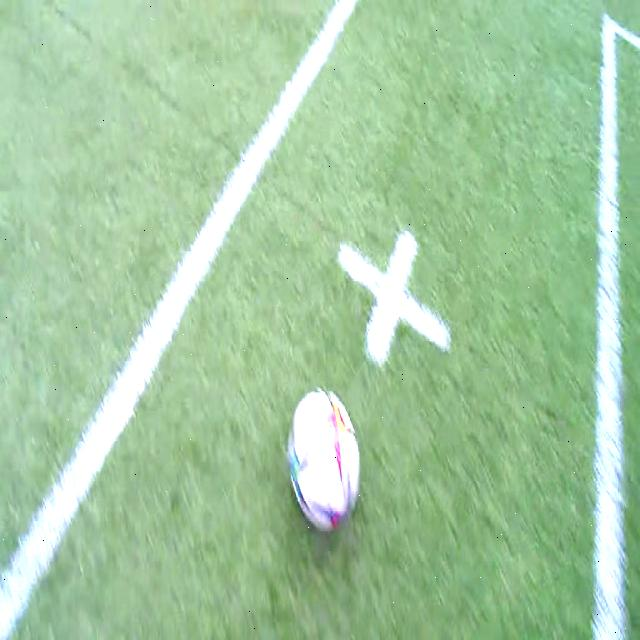ball: (288, 388, 360, 532)
